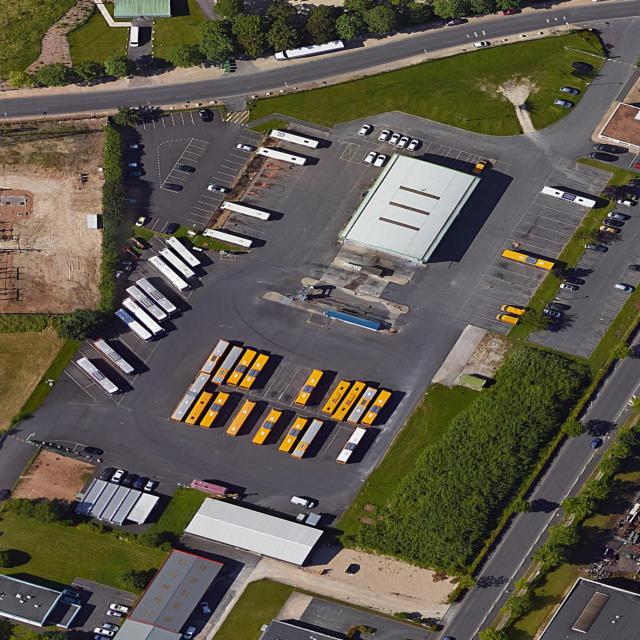large-vehicle: (170, 372, 212, 423), (120, 298, 167, 336), (135, 278, 180, 316), (75, 357, 121, 394), (273, 39, 346, 62), (125, 285, 170, 322), (92, 338, 136, 375), (147, 256, 192, 292), (331, 380, 368, 421), (114, 308, 157, 343), (290, 418, 325, 460), (541, 185, 598, 209), (251, 407, 285, 446), (211, 345, 245, 384), (225, 348, 259, 387), (346, 386, 380, 423), (360, 389, 394, 426), (293, 369, 326, 407), (199, 391, 231, 430), (335, 427, 368, 464), (226, 399, 258, 437), (239, 353, 271, 391), (157, 247, 196, 278), (278, 416, 309, 454), (501, 249, 556, 270), (265, 128, 320, 149), (321, 379, 353, 415), (165, 236, 202, 267), (220, 200, 272, 221), (184, 390, 214, 426), (202, 227, 253, 248), (200, 340, 231, 374), (256, 146, 308, 166), (190, 478, 230, 496)
small-vehicle: (287, 494, 318, 509), (499, 303, 526, 316), (583, 241, 609, 254), (97, 465, 117, 481), (593, 142, 619, 154), (570, 61, 594, 73), (495, 313, 519, 325), (120, 472, 137, 488), (109, 469, 127, 484), (130, 475, 148, 490), (613, 282, 635, 294), (108, 602, 132, 613), (81, 445, 104, 456), (562, 275, 585, 286), (539, 307, 562, 318), (140, 479, 158, 493), (589, 151, 614, 161), (60, 588, 82, 599), (472, 160, 488, 175), (182, 625, 198, 640), (356, 123, 373, 137), (607, 211, 628, 222), (376, 129, 393, 142), (559, 85, 581, 95), (99, 621, 121, 631), (93, 627, 115, 637), (602, 218, 626, 227), (292, 513, 306, 528), (547, 301, 568, 311), (598, 224, 619, 234), (62, 596, 83, 606), (105, 609, 126, 619), (396, 136, 411, 150), (387, 133, 403, 146), (405, 139, 421, 152), (177, 164, 197, 174), (208, 184, 228, 194), (553, 98, 573, 108), (130, 27, 140, 47), (500, 7, 522, 16), (198, 109, 212, 123), (163, 222, 178, 235), (364, 151, 379, 164), (134, 215, 148, 228), (199, 600, 212, 614), (374, 155, 388, 168), (163, 183, 183, 192), (616, 197, 634, 207), (444, 18, 463, 27), (235, 143, 254, 152), (559, 283, 577, 292), (345, 563, 358, 575), (123, 170, 145, 177), (589, 438, 603, 449), (123, 143, 142, 151), (471, 40, 490, 48), (122, 162, 139, 169)
